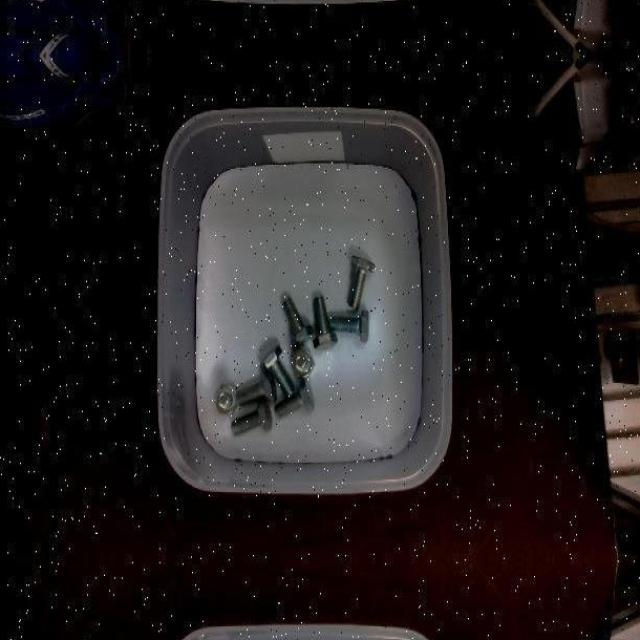screw: (260, 344, 295, 396), (281, 296, 314, 348), (274, 379, 315, 418), (232, 398, 273, 436), (236, 370, 277, 406), (348, 256, 374, 309), (314, 295, 339, 349), (330, 310, 370, 343), (214, 384, 238, 416), (290, 348, 314, 379)
